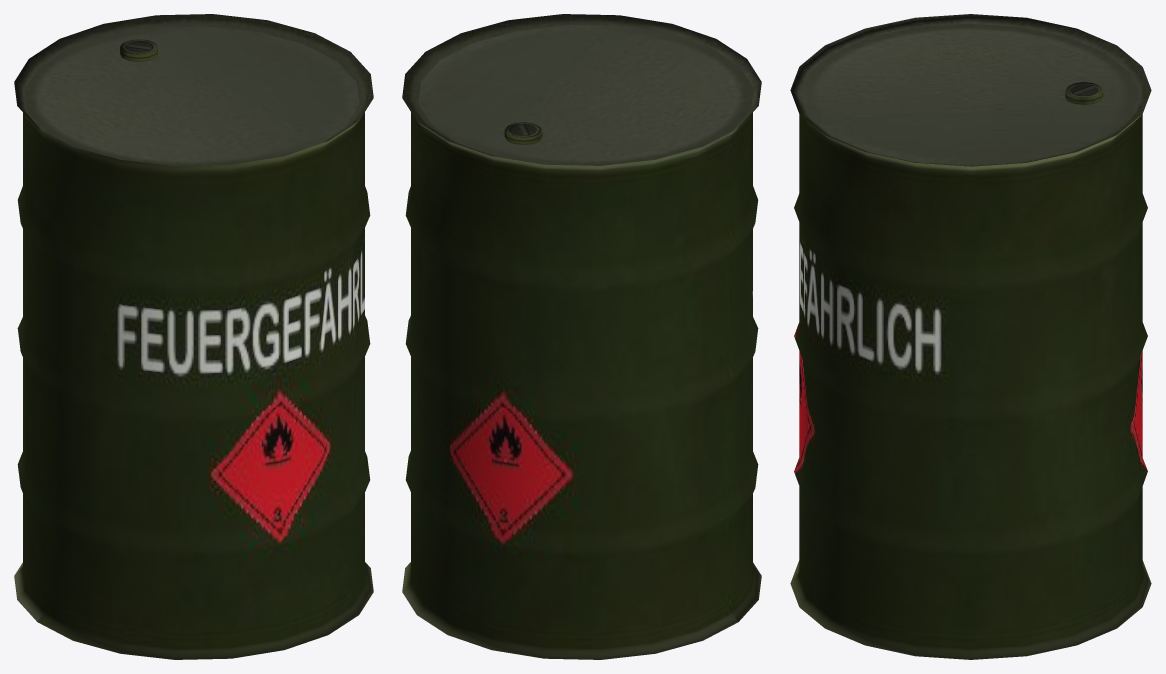
File: Barrel_01.fbx
3 renders of one model, left to right at view 1: azimuth 30°, elevation 25°; view 2: azimuth 150°, elevation 25°; view 3: azimuth 270°, elevation 25°, orthographic.
Parts seen in each view (by area): view 1: cubus_faun_912_21e; view 2: cubus_faun_912_21e; view 3: cubus_faun_912_21e.
Part boxes in pixels (bbox=[...]): cubus_faun_912_21e: bbox=[14, 14, 373, 659]; cubus_faun_912_21e: bbox=[402, 14, 761, 659]; cubus_faun_912_21e: bbox=[790, 14, 1151, 659].
Size of the model in its own units: 58.52 by 88.39 by 58.52.
